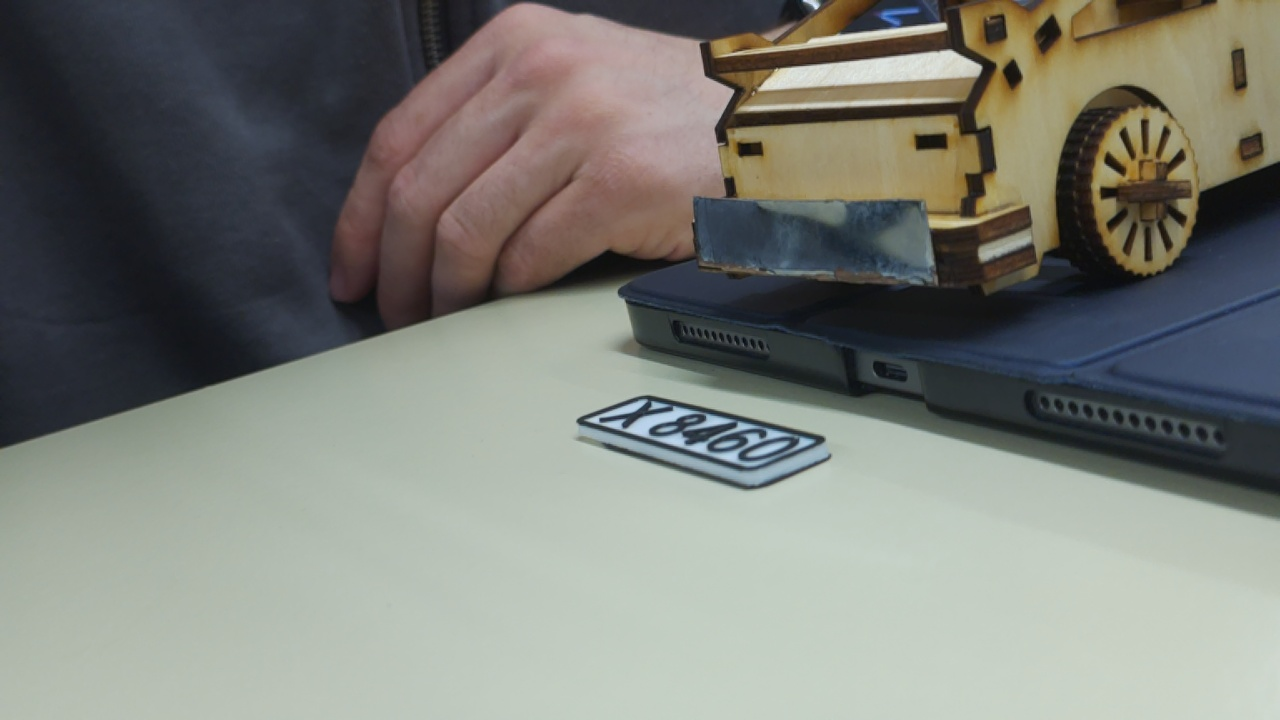license_plate: (566, 387, 837, 495)
